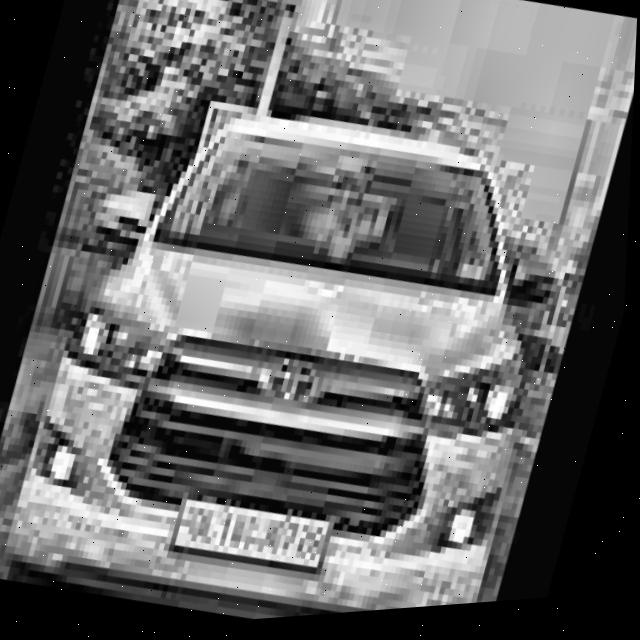light_vehicle: (0, 61, 601, 639)
